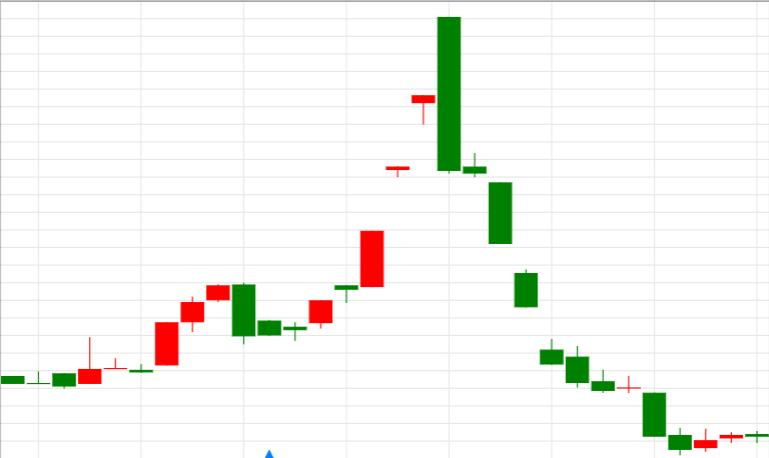bearish_engulfing_fall: (284, 17, 461, 341)
